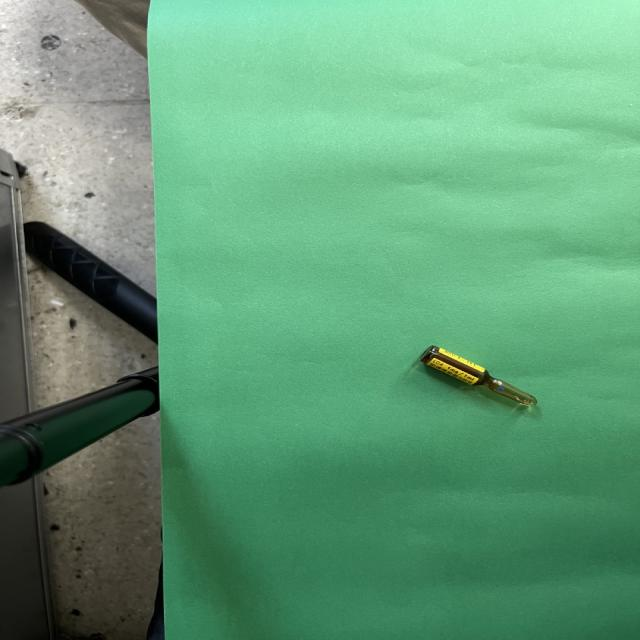Ampoules: (418, 346, 536, 406)
